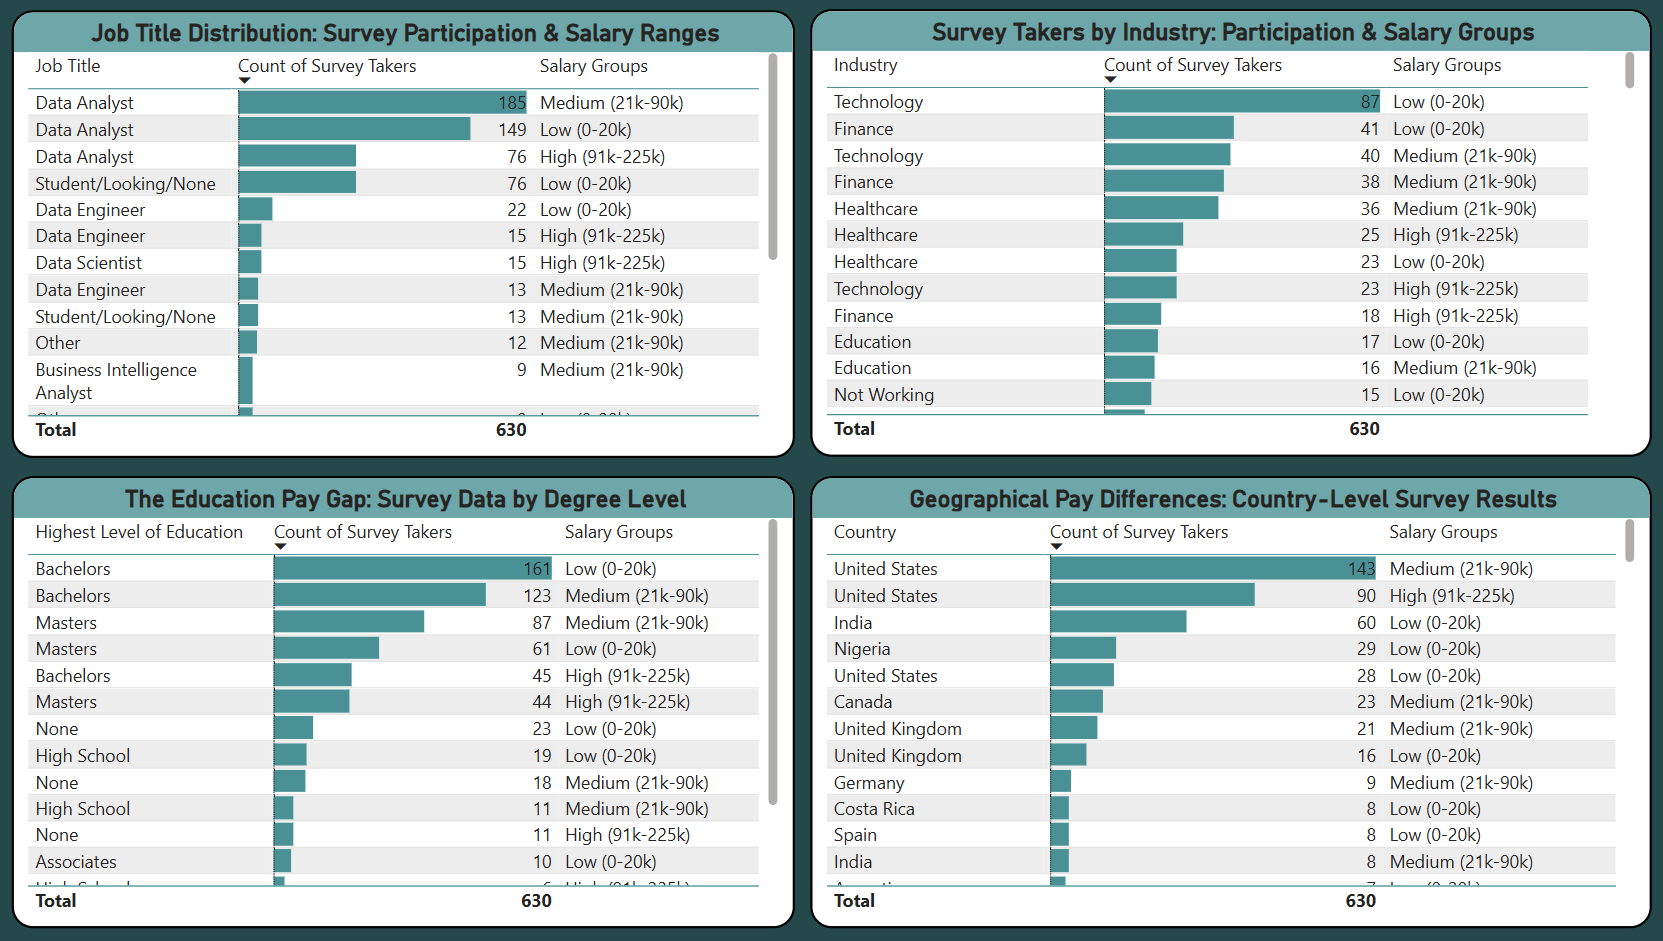

Layout of this report page (visuals, bound fields, positions):
{"tool":"powerbi","page":{"name":"Detailed Tables","canvas":[1280,720],"ordinal":3},"visuals":[{"type":"tableEx","title":"The Education Pay Gap: Survey Data by Degree Level","fields":{"Values":["Data Professional Survey.Highest Level of Education","CountNonNull(Data Professional Survey.Survey Takers)","Data Professional Survey.Salary Groups"]},"box":[28.8,360,588.8,340],"z":0},{"type":"tableEx","title":"Job Title Distribution: Survey Participation & Salary Ranges","fields":{"Values":["Data Professional Survey.Job Title","CountNonNull(Data Professional Survey.Survey Takers)","Data Professional Survey.Salary Groups"]},"box":[28.8,10,588.8,336.2],"z":1000},{"type":"tableEx","title":"Geographical Pay Differences: Country-Level Survey Results","fields":{"Values":["Data Professional Survey.Country","CountNonNull(Data Professional Survey.Survey Takers)","Data Professional Survey.Salary Groups"]},"box":[628.8,360,632.5,340],"z":2000},{"type":"tableEx","title":"Survey Takers by Industry: Participation & Salary Groups","fields":{"Values":["Data Professional Survey.Industry","Data Professional Survey.Survey Takers","Data Professional Survey.Salary Groups"]},"box":[628.8,8.8,632.5,336.2],"z":3000}]}

Visuals, with their boxes in screenshot pixels (x1, y1, x2, y2), scaled from the page's 1280x720 canvas onto the 1663x941 screenshot:
"The Education Pay Gap: Survey Data by Degree Level" tableEx: 37/470/802/915
"Job Title Distribution: Survey Participation & Salary Ranges" tableEx: 37/13/802/452
"Geographical Pay Differences: Country-Level Survey Results" tableEx: 817/470/1639/915
"Survey Takers by Industry: Participation & Salary Groups" tableEx: 817/12/1639/451
